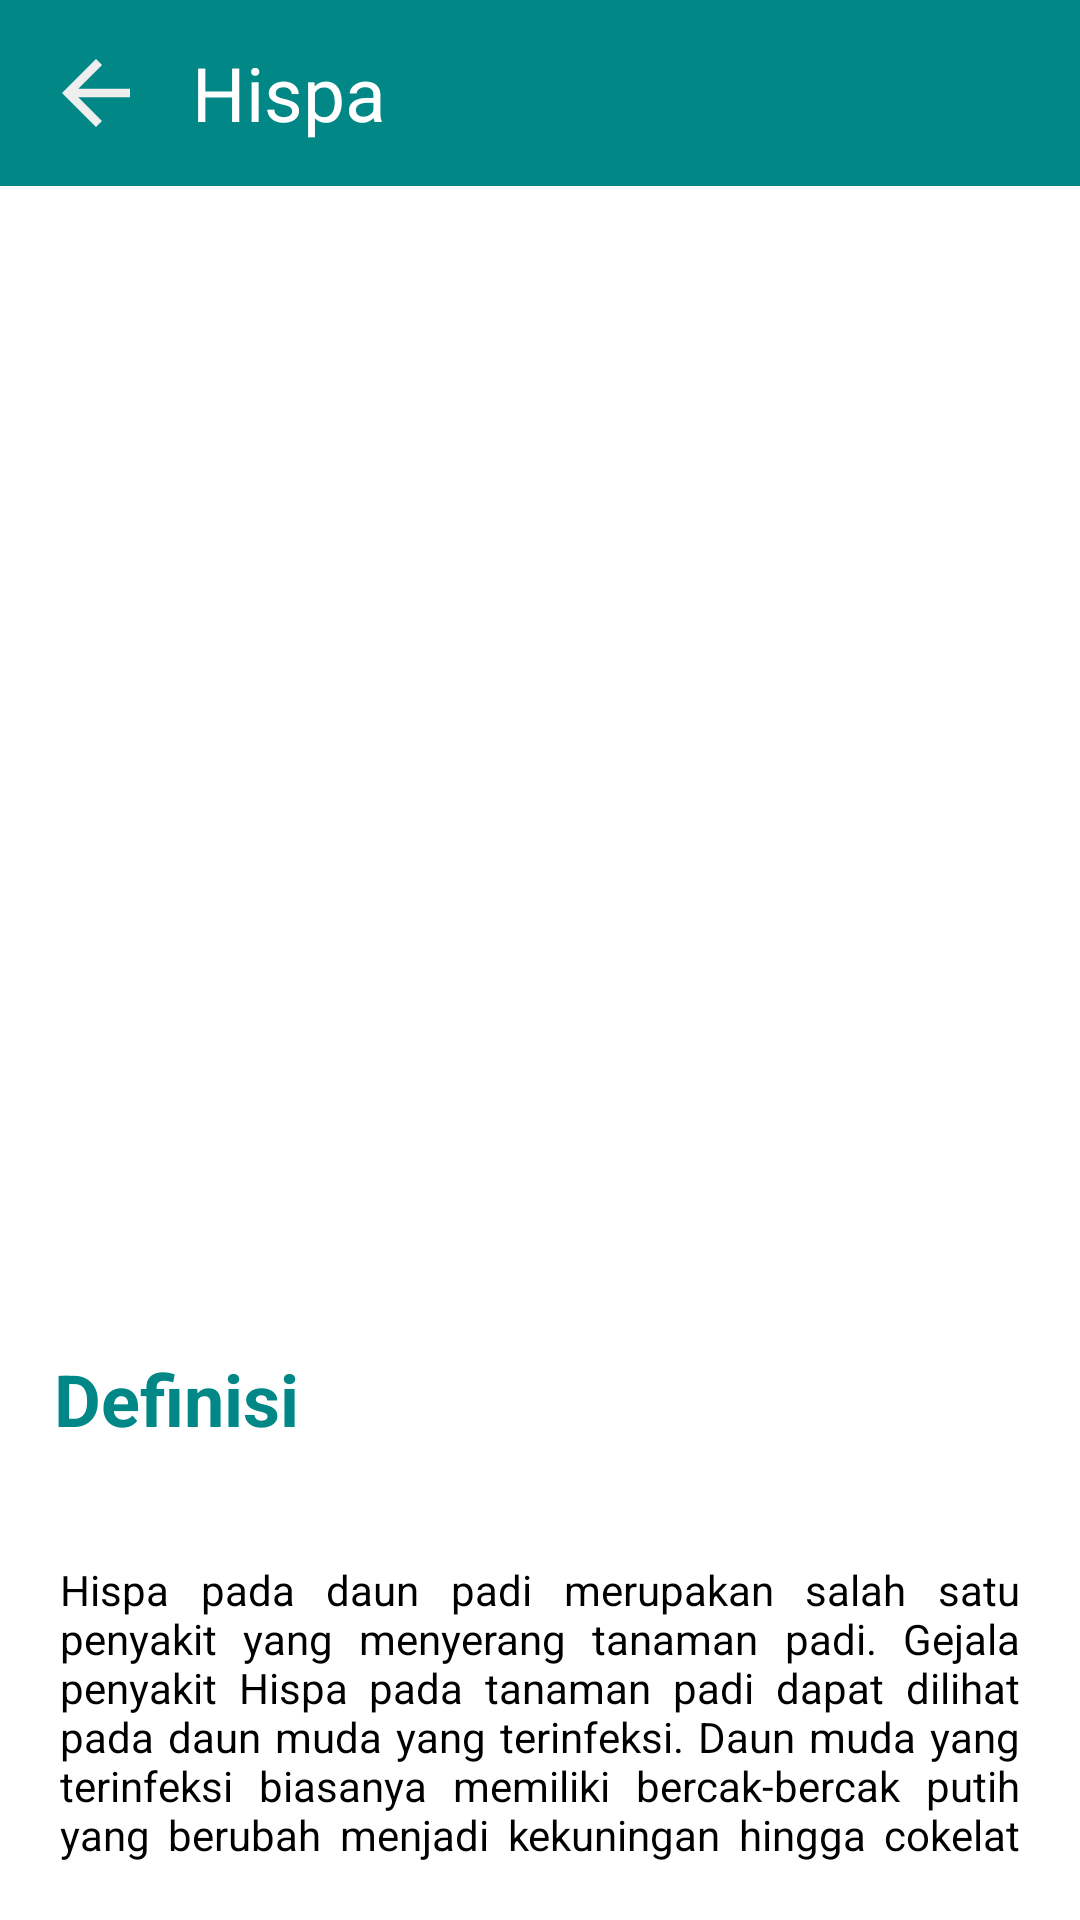

Screen size 1080×1920. Icon name, then its center in pixels as point (x, y):
back: point (96, 93)
